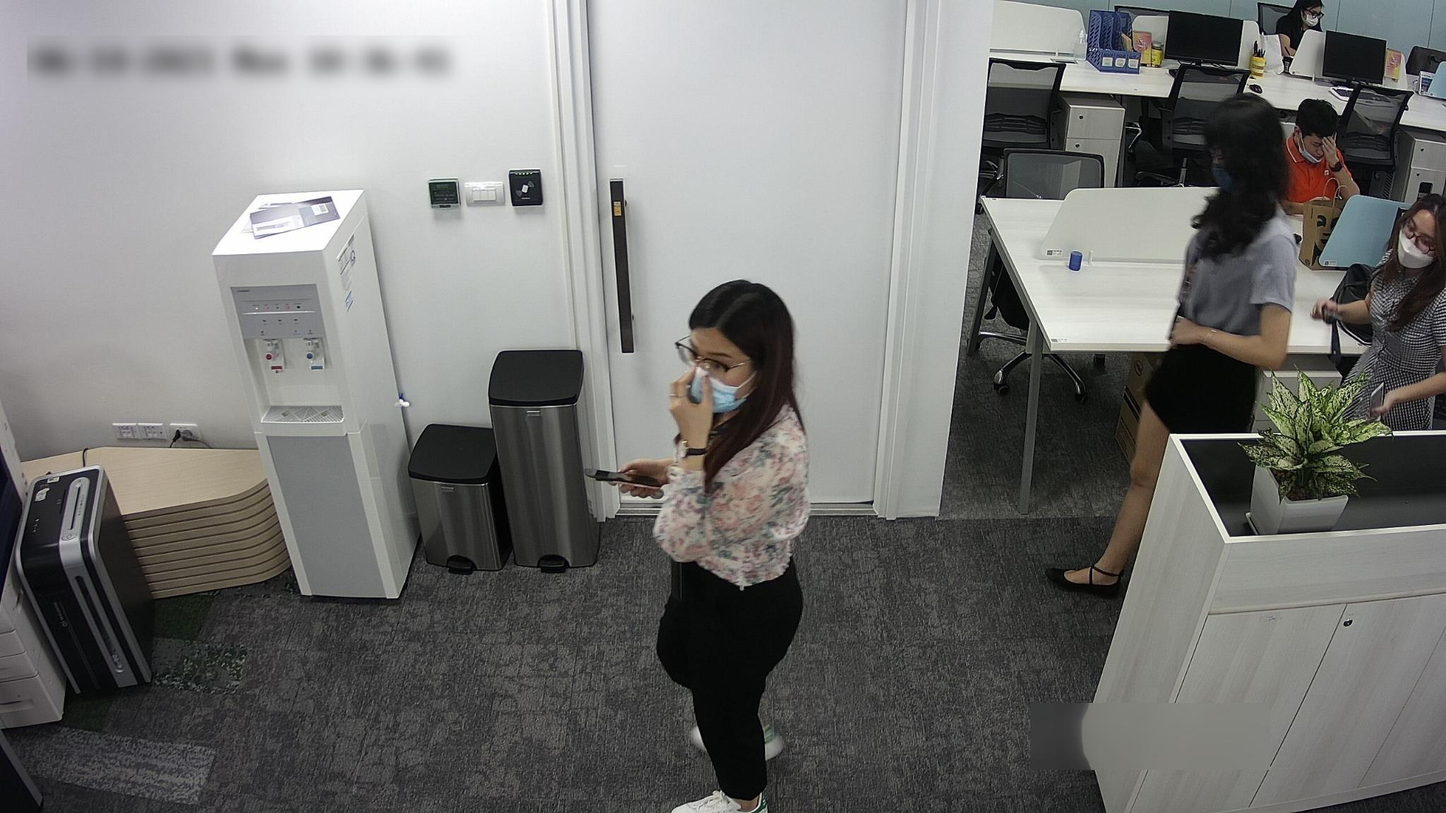mask: (679, 324, 760, 421), (1396, 203, 1438, 273)
no_apron: (634, 368, 736, 472), (1300, 278, 1372, 336), (1159, 301, 1208, 357)
no_gloves: (689, 278, 841, 500), (1176, 97, 1295, 276)
no_hairnet: (1293, 124, 1338, 170)
